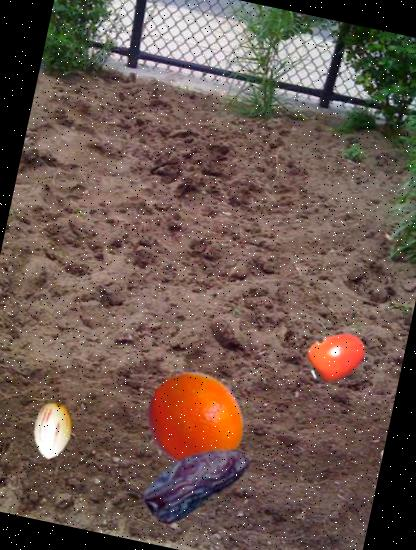Dates: (129, 414, 264, 548)
Kaki: (301, 322, 372, 392)
Pepino: (20, 397, 89, 466)
Tangelo: (134, 360, 262, 488)
